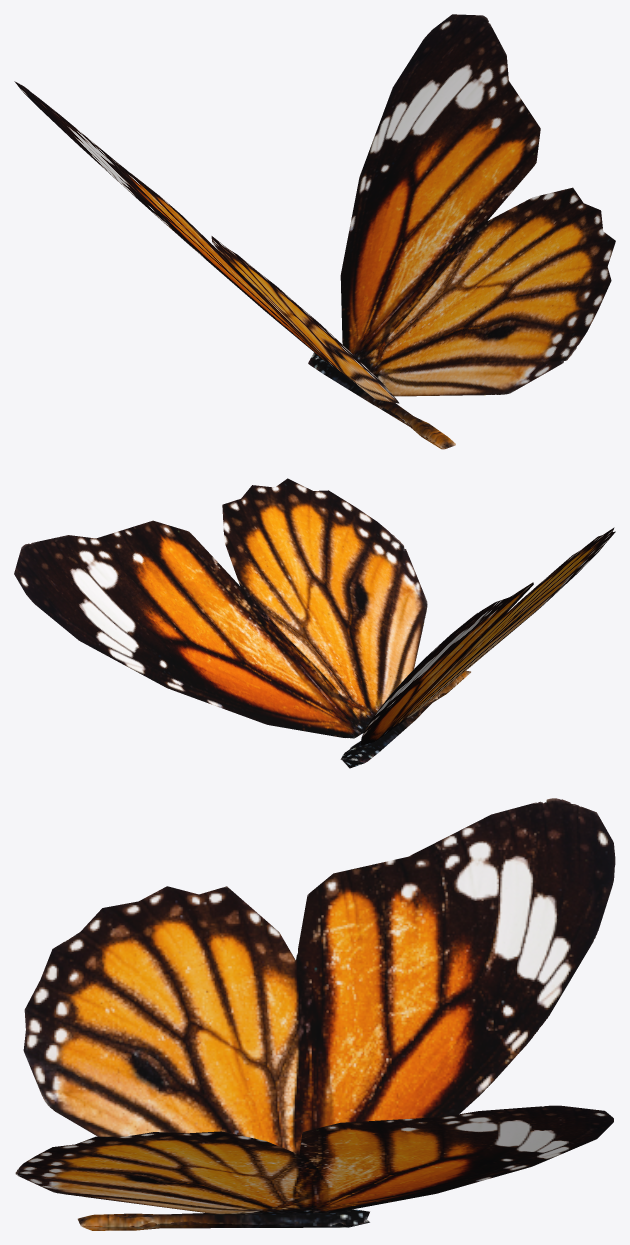
File: ButterFly.fbx
3 renders of one model, top to bottom at view 1: azimuth 30°, elevation 25°; view 2: azimuth 150°, elevation 25°; view 3: azimuth 270°, elevation 25°, orthographic. The views are drawn at different scales.
Visible parts, largest first — view 1: butterfly_PNG1037_png_001, butterfly_PNG1037_png_002, butterfly_PNG1037_png; view 2: butterfly_PNG1037_png_001, butterfly_PNG1037_png_002, butterfly_PNG1037_png; view 3: butterfly_PNG1037_png_002, butterfly_PNG1037_png_001, butterfly_PNG1037_png.
Boxes of the visible parts, left/top/right/bottom form: butterfly_PNG1037_png_001: left=340, top=14, right=615, bottom=396; butterfly_PNG1037_png_002: left=14, top=81, right=399, bottom=403; butterfly_PNG1037_png: left=308, top=352, right=455, bottom=449; butterfly_PNG1037_png_001: left=14, top=478, right=427, bottom=738; butterfly_PNG1037_png_002: left=360, top=527, right=615, bottom=745; butterfly_PNG1037_png: left=340, top=670, right=470, bottom=768; butterfly_PNG1037_png_002: left=23, top=798, right=615, bottom=1154; butterfly_PNG1037_png_001: left=15, top=1105, right=613, bottom=1214; butterfly_PNG1037_png: left=77, top=1209, right=369, bottom=1230.
Bounding box in the file's own units: 7.28 × 4.04 × 7.14.
